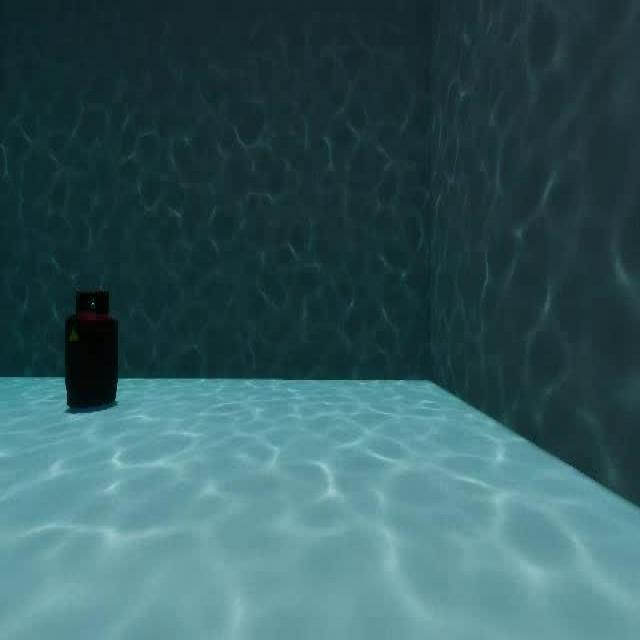Cylinder: (54, 273, 130, 430)
